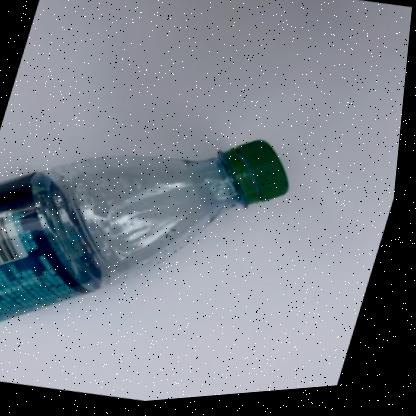Plastic: (0, 144, 292, 323)
